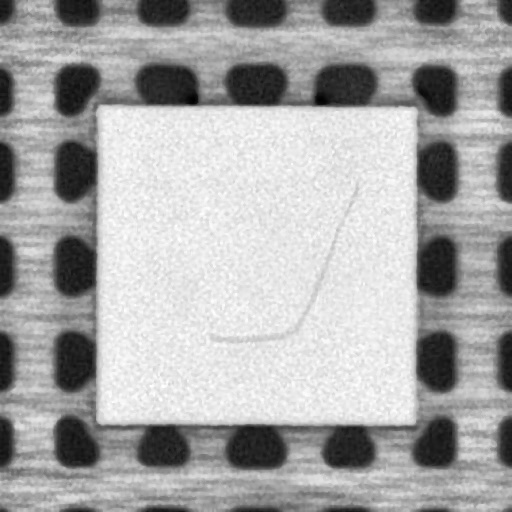DIE_CRACK: (208, 177, 360, 344)
